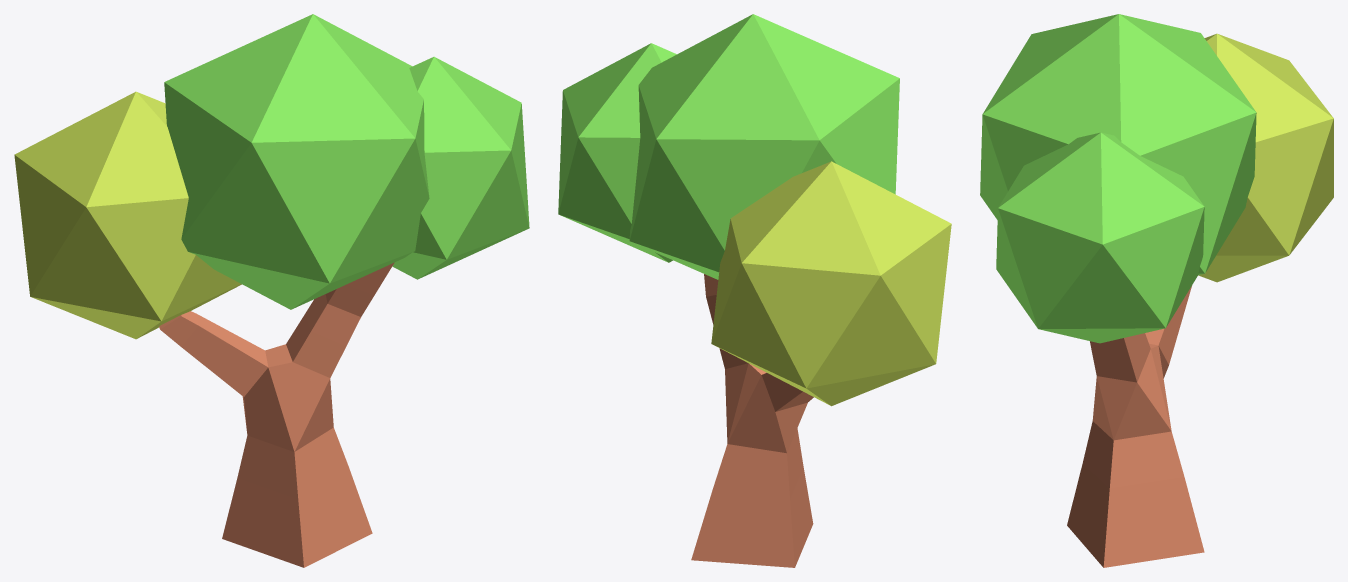
File: Tree 2.fbx
The picture shows the model from 3 angles, left to right: view 1: azimuth 30°, elevation 25°; view 2: azimuth 150°, elevation 25°; view 3: azimuth 270°, elevation 25°; orthographic projection.
Visible parts, largest first — view 1: Tree 2; view 2: Tree 2; view 3: Tree 2.
Boxes of the visible parts, left/top/right/bottom form: Tree 2: left=14, top=14, right=529, bottom=567; Tree 2: left=558, top=14, right=951, bottom=567; Tree 2: left=980, top=14, right=1333, bottom=567.
Size of the model in its own units: 367 by 425 by 258.
